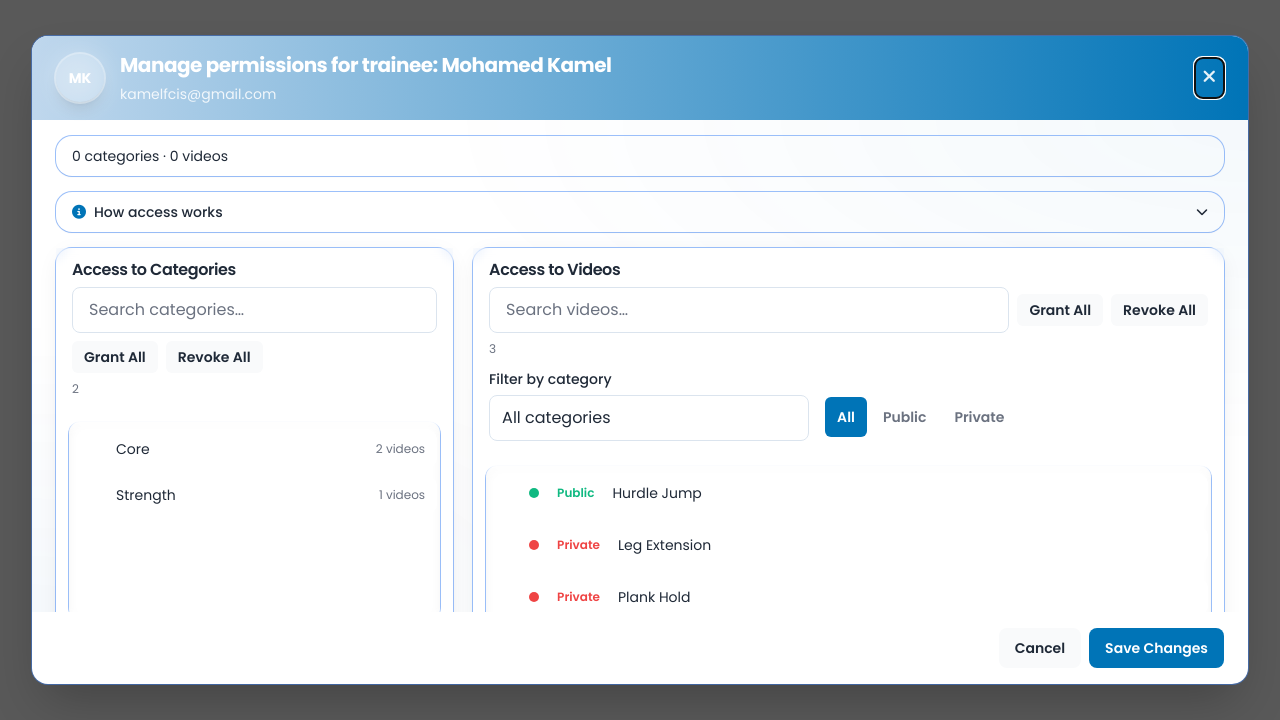
TraineeAccessModal › search filters video list
The image size is (1280, 720).
Check: the text "Hurdle Jump" is shown, box x1=612 y1=483 x2=702 y2=503
Type "Plank" into the field with test id "access-panel-search" at (749, 310), box x1=489 y1=287 x2=1009 y2=333
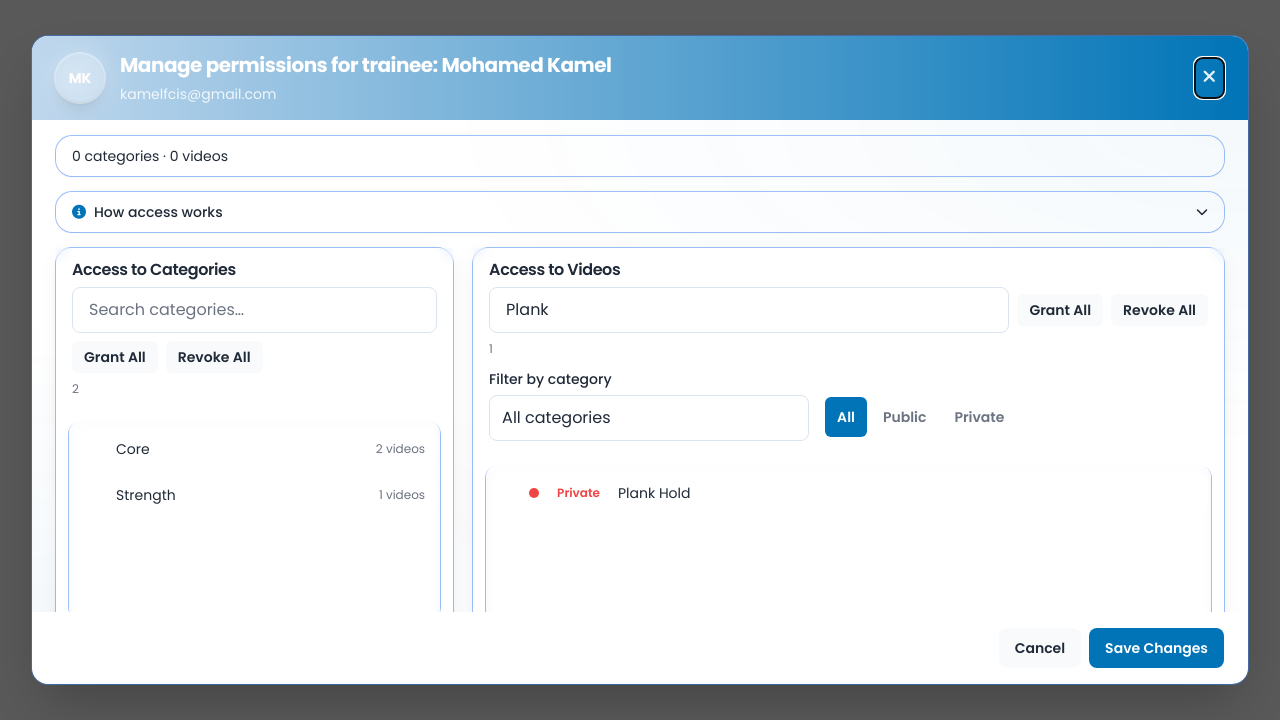
Check: the text "Plank Hold" is shown, box x1=618 y1=483 x2=690 y2=503
Check: the text "Hurdle Jump" is gone
